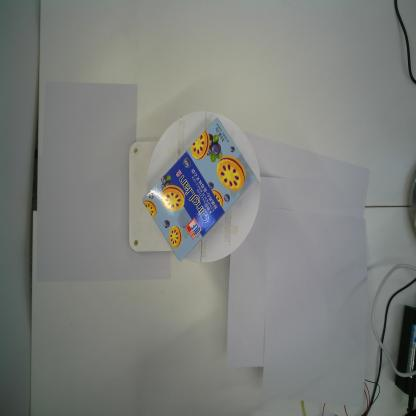Dessert: (142, 116, 257, 263)
